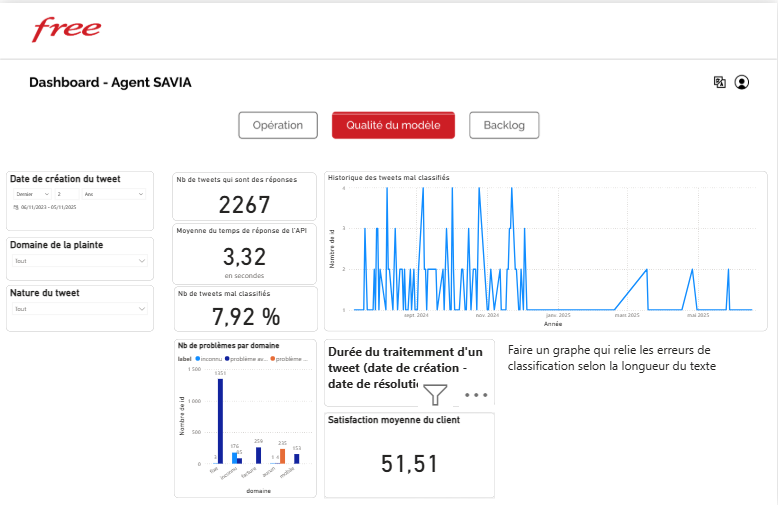

Layout of this report page (visuals, bound fields, positions):
{"tool":"powerbi","page":{"name":"Qualité du modèle","canvas":[1728,1117],"ordinal":1},"visuals":[{"type":"card","title":"Nb de tweets qui sont des réponses","fields":{"Values":["CountNonNull(tweets_clean_final.id)"]},"box":[385,496.7,320,108.3],"z":0},{"type":"card","title":"Nb de tweets mal classifiés","fields":{"Values":["tweets_classified_clean_2.Pourcentage_Inconnu"]},"box":[386.7,375,320,100],"z":1000},{"type":"actionButton","box":[734.3,245.7,282.9,60],"z":2000},{"type":"actionButton","box":[527.5,245,177.5,61.2],"z":3000},{"type":"actionButton","box":[1043.8,245,155,60],"z":4000},{"type":"slicer","title":"Date de création du tweet","fields":{"Values":["tweets_classified_clean_2.created_at"]},"box":[14.3,374.3,325.7,132.9],"z":5000},{"type":"slicer","title":"Domaine de la plainte","fields":{"Values":["tweets_classified_clean_2.domaine"]},"box":[13.7,519.2,328.3,96.7],"z":6000},{"type":"slicer","title":"Nature du tweet","fields":{"Values":["tweets_classified_clean_2.label"]},"box":[13.7,627.6,328.3,103.3],"z":7000},{"type":"card","title":"Moyenne du temps de réponse de l''API","fields":{"Values":["Avg(tweets_classified_clean_2.duration_seconds)"]},"box":[384,762,322,140],"z":9000},{"type":"lineChart","title":"Pourcentage de tweets mal classifiés","fields":{"Category":["tweets_clean_final.Longueur_Texte_Tranches"],"Y":["tweets_clean_final.Pourcentage_Inconnu"],"Y2":["CountNonNull(tweets_clean_final.id)"]},"box":[717.5,375,992.5,355],"z":10000},{"type":"lineChart","title":"Historique des tweets mal classifiés","fields":{"Category":["tweets_clean_final.created_at.Variation.Hiérarchie de dates.Année","tweets_clean_final.created_at.Variation.Hiérarchie de dates.Mois","tweets_clean_final.created_at.Variation.Hiérarchie de dates.Jour"],"Y":["CountNonNull(tweets_clean_final.label)"]},"box":[718.3,745,993.3,348.3],"z":11000},{"type":"card","title":"Nb de tweets qui sont des réponses mal classifiés","fields":{"Values":["CountNonNull(tweets_clean_final.id)"]},"box":[386,622,320,124],"z":13000}]}

Visuals, with their boxes in screenshot pixels (x1, y1, x2, y2), scaled from the page's 1728x1117 canvas onto the 778x505 screenshot:
"Nb de tweets qui sont des réponses" card: left=173, top=225, right=317, bottom=274
"Nb de tweets mal classifiés" card: left=174, top=170, right=318, bottom=215
actionButton: left=331, top=111, right=458, bottom=138
actionButton: left=237, top=111, right=317, bottom=138
actionButton: left=470, top=111, right=540, bottom=138
"Date de création du tweet" slicer: left=6, top=169, right=153, bottom=229
"Domaine de la plainte" slicer: left=6, top=235, right=154, bottom=278
"Nature du tweet" slicer: left=6, top=284, right=154, bottom=330
"Moyenne du temps de réponse de l''API" card: left=173, top=345, right=318, bottom=408
"Pourcentage de tweets mal classifiés" lineChart: left=323, top=170, right=770, bottom=330
"Historique des tweets mal classifiés" lineChart: left=323, top=337, right=771, bottom=494
"Nb de tweets qui sont des réponses mal classifiés" card: left=174, top=281, right=318, bottom=337
